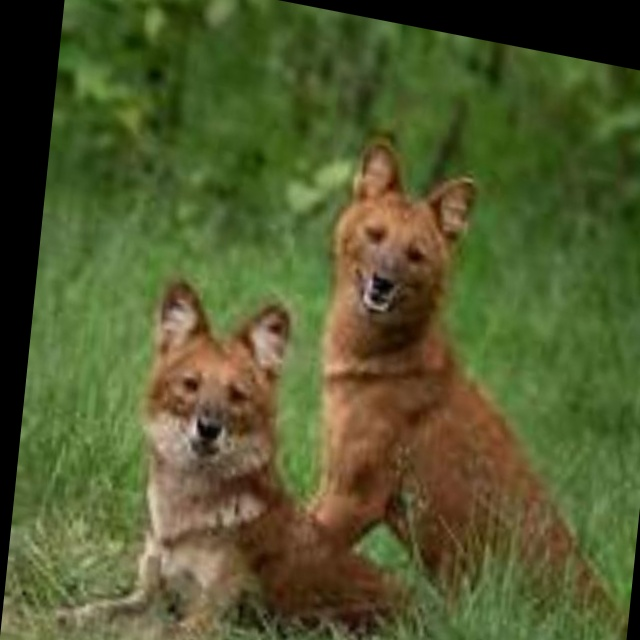dog: (290, 135, 535, 543), (87, 270, 328, 639)
